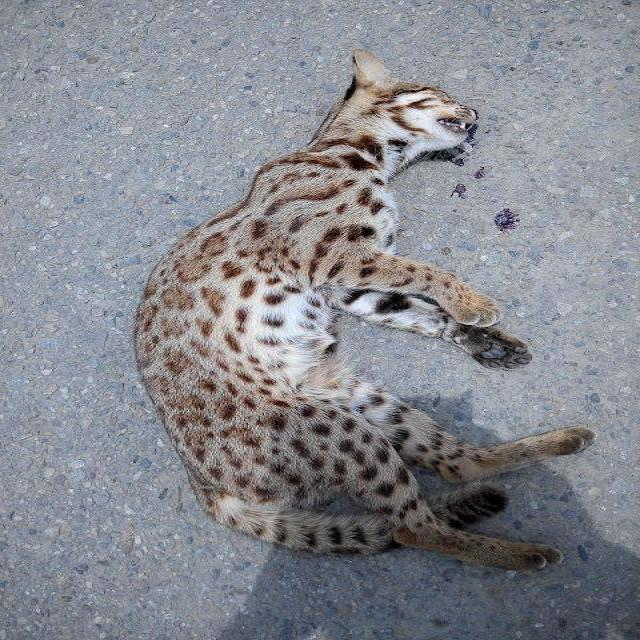leopard: (302, 53, 588, 622)
